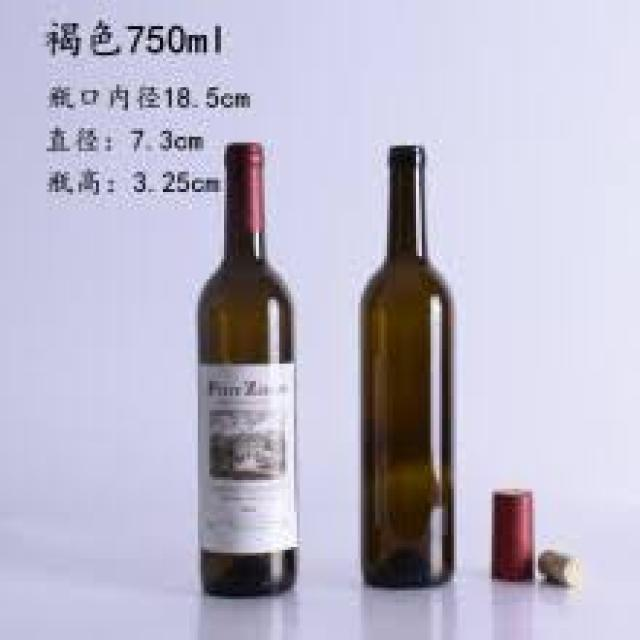glass: (352, 145, 451, 585), (198, 227, 294, 596)
metal: (486, 486, 535, 579), (221, 140, 262, 227), (532, 544, 576, 582)
